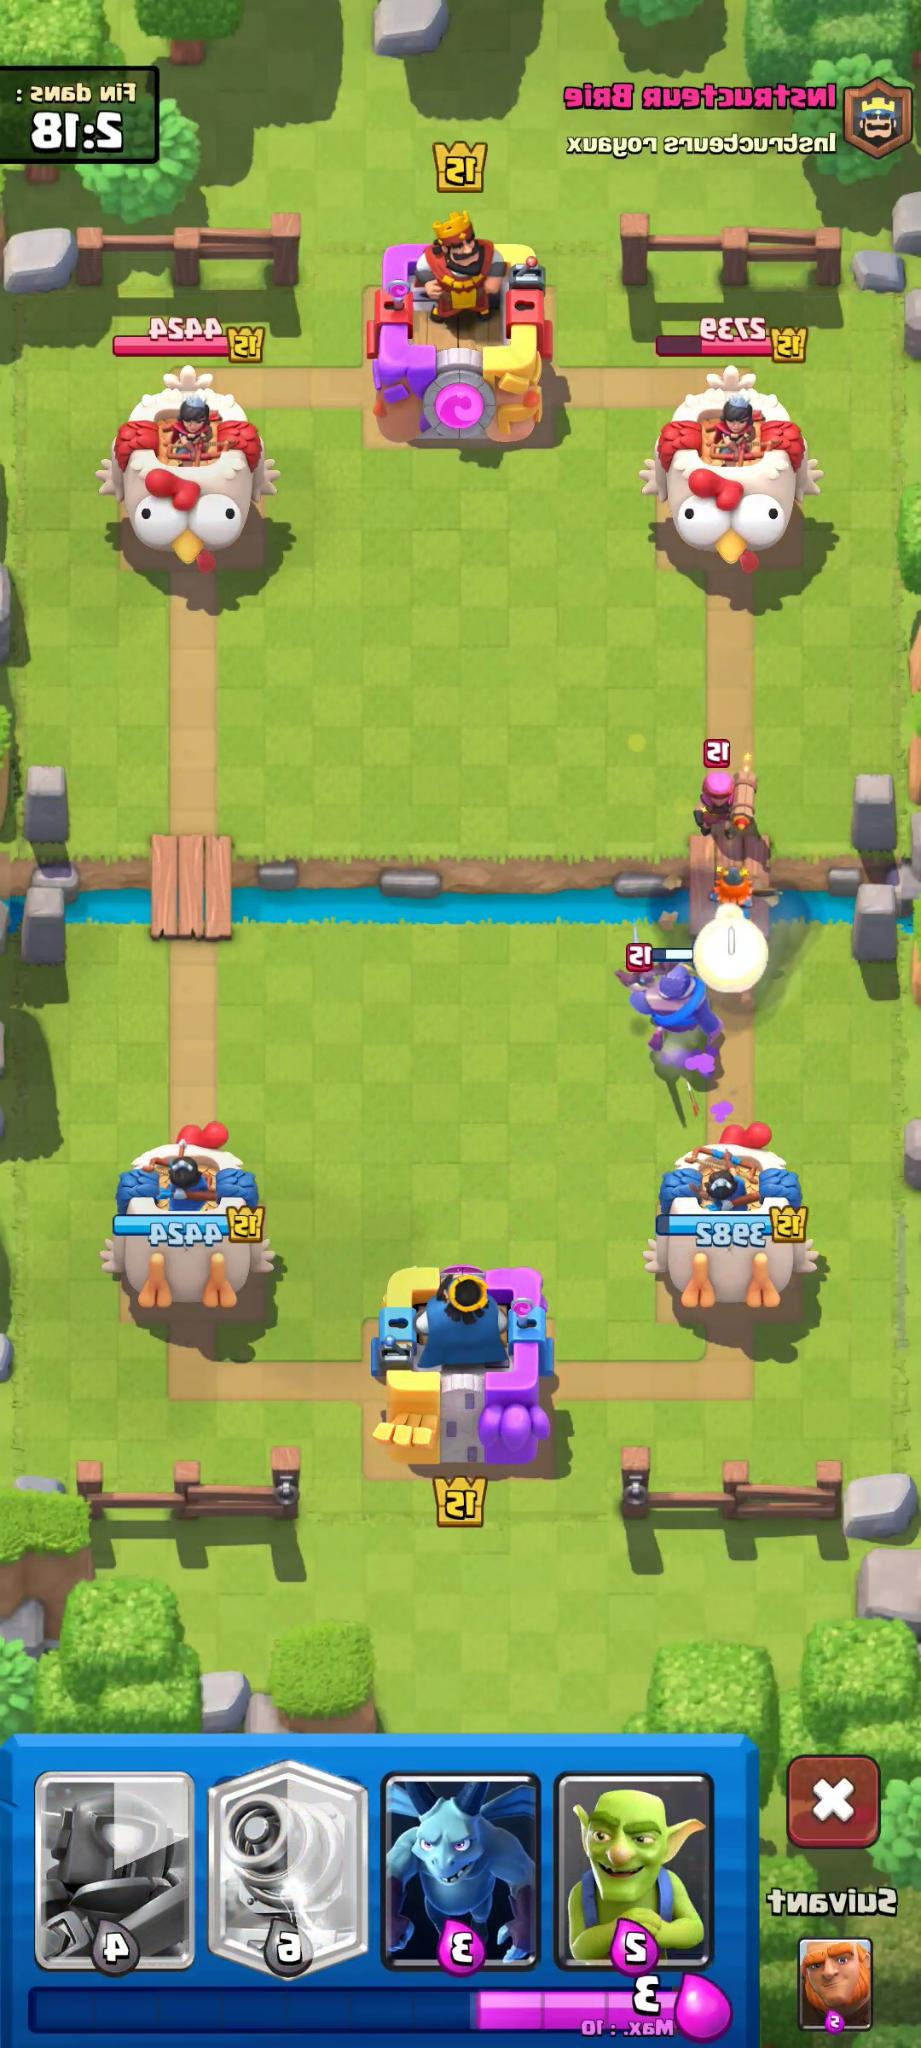bat: (610, 942, 678, 997)
chevalier: (630, 922, 722, 1058)
valkyrie: (690, 862, 785, 948)
